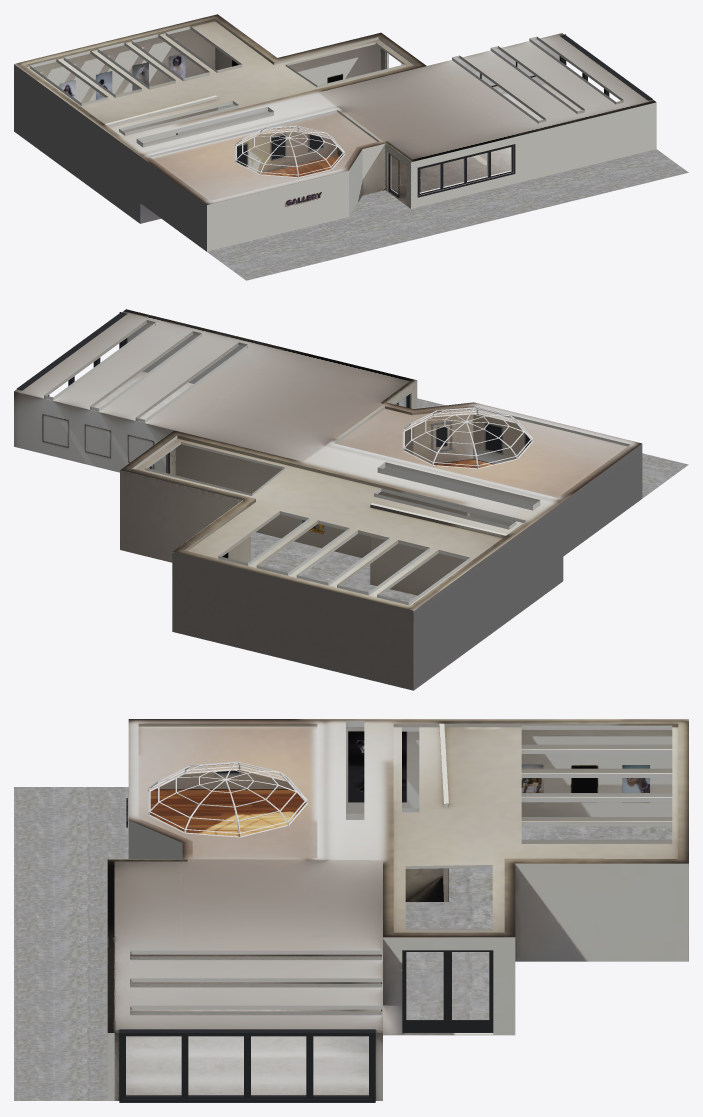
File: art-gallery2.glb
The picture shows the model from 3 angles, top to bottom: view 1: azimuth 30°, elevation 25°; view 2: azimuth 150°, elevation 25°; view 3: azimuth 270°, elevation 25°; orthographic projection. The views are drawn at different scales.
Visible parts, largest first — view 1: Paredes, Paredes.001, Teto.001, Chao_fora, Janelas_entrada, Chao_entrada, Todos os quadros, Sphere.002, Chao_madeira, Janelas, Porta_entrada; view 2: Paredes, Teto.001, Paredes.001, Chao_inferior, Sphere.002, Chao_fora, Todos os quadros, Janelas, Chao_entrada; view 3: Teto.001, Paredes.001, Paredes, Chao_fora, Janelas, Chao_entrada, Chao_inferior, Janelas_andar_inferior, Chao_madeira, Sphere.002, Todos os quadros.
Part boxes in pixels (x1=…): Paredes: x1=14, y1=21, x2=410, y2=251; Paredes.001: x1=318, y1=33, x2=656, y2=208; Teto.001: x1=14, y1=14, x2=426, y2=204; Chao_fora: x1=207, y1=149, x2=688, y2=280; Janelas_entrada: x1=417, y1=144, x2=515, y2=197; Chao_entrada: x1=338, y1=84, x2=581, y2=205; Todos os quadros: x1=59, y1=54, x2=390, y2=202; Sphere.002: x1=235, y1=125, x2=345, y2=177; Chao_madeira: x1=261, y1=155, x2=340, y2=176; Janelas: x1=559, y1=34, x2=652, y2=100; Porta_entrada: x1=390, y1=155, x2=421, y2=198; Paredes: x1=120, y1=380, x2=642, y2=690; Teto.001: x1=120, y1=402, x2=641, y2=610; Paredes.001: x1=14, y1=309, x2=417, y2=472; Chao_inferior: x1=251, y1=532, x2=417, y2=602; Sphere.002: x1=402, y1=407, x2=533, y2=468; Chao_fora: x1=396, y1=398, x2=688, y2=498; Todos os quadros: x1=302, y1=394, x2=531, y2=534; Janelas: x1=17, y1=312, x2=127, y2=396; Chao_entrada: x1=93, y1=371, x2=193, y2=419; Teto.001: x1=128, y1=719, x2=688, y2=937; Paredes.001: x1=107, y1=859, x2=382, y2=1100; Paredes: x1=108, y1=723, x2=688, y2=1035; Chao_fora: x1=14, y1=787, x2=128, y2=1100; Janelas: x1=119, y1=1029, x2=375, y2=1102; Chao_entrada: x1=126, y1=868, x2=443, y2=1094; Chao_inferior: x1=405, y1=826, x2=672, y2=1019; Janelas_andar_inferior: x1=402, y1=950, x2=493, y2=1032; Chao_madeira: x1=150, y1=789, x2=305, y2=836; Sphere.002: x1=148, y1=761, x2=308, y2=837; Todos os quadros: x1=126, y1=731, x2=649, y2=818.
Bounding box in the file's own units: 62.24 × 11.03 × 56.35.
31 materials, 20 textured.
